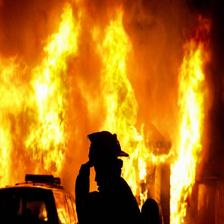fire: (1, 2, 79, 186), (158, 30, 216, 222), (87, 9, 155, 131), (120, 131, 178, 188)
